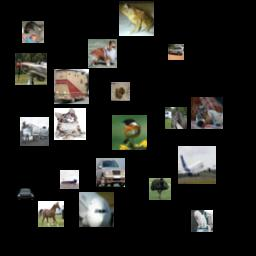airplane: (178, 146, 216, 184), (79, 192, 114, 227), (15, 53, 47, 85)
automobile: (96, 158, 125, 187), (15, 184, 37, 206), (168, 44, 184, 60)
bird: (112, 115, 147, 150), (149, 178, 171, 200)
cat: (54, 108, 86, 140), (191, 97, 223, 129), (22, 21, 44, 43)
dog: (88, 39, 117, 68), (191, 210, 213, 232), (111, 82, 130, 101)
frog: (119, 1, 154, 36)
ship: (60, 170, 79, 189)
truck: (54, 69, 89, 104), (20, 117, 49, 146)
